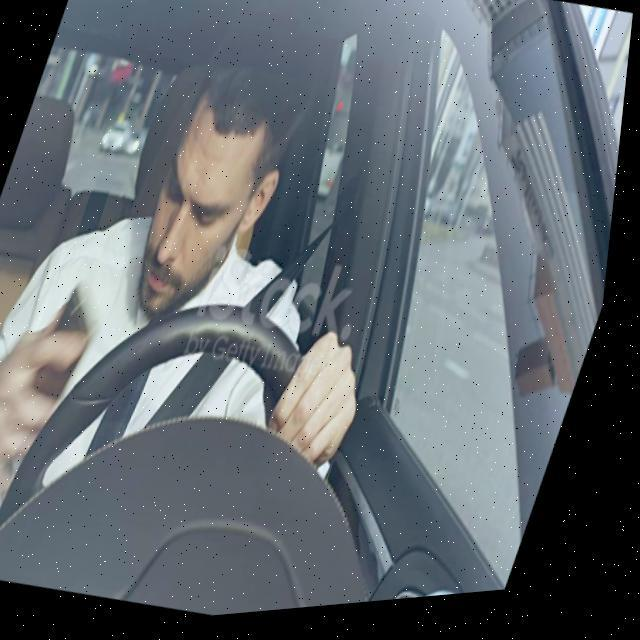PhoneCall: (9, 277, 117, 472)
